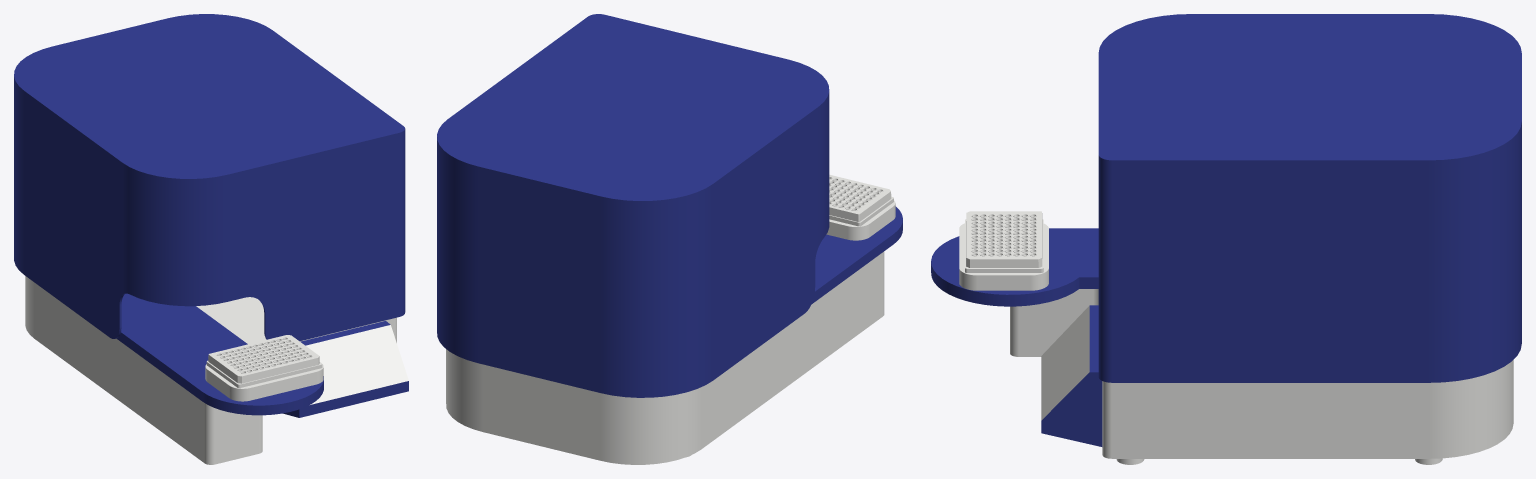
The model's file is Xpeel_v2.glb.
The picture shows the model from 3 angles, left to right: view 1: azimuth 30°, elevation 25°; view 2: azimuth 150°, elevation 25°; view 3: azimuth 270°, elevation 25°; orthographic projection. The views are drawn at different scales.
Parts seen in each view (by area): view 1: XPEEL v006, XPEEL v005, XPEEL v007, Eppendorf LoBind 96 Well PCR Plate Skirted v1, XPEEL v008; view 2: XPEEL v006, XPEEL v005, XPEEL v007, Eppendorf LoBind 96 Well PCR Plate Skirted v1, XPEEL v008; view 3: XPEEL v006, XPEEL v005, XPEEL v007, Eppendorf LoBind 96 Well PCR Plate Skirted v1, XPEEL v008.
Part boxes in pixels (x1,y1,x2,y2): XPEEL v006: (14, 14, 405, 341); XPEEL v005: (25, 276, 408, 464); XPEEL v007: (116, 293, 323, 415); Eppendorf LoBind 96 Well PCR Plate Skirted v1: (206, 335, 322, 387); XPEEL v008: (205, 364, 323, 401); XPEEL v006: (437, 14, 829, 397); XPEEL v005: (446, 251, 884, 464); XPEEL v007: (811, 206, 902, 304); Eppendorf LoBind 96 Well PCR Plate Skirted v1: (829, 174, 893, 226); XPEEL v008: (826, 200, 895, 240); XPEEL v006: (1098, 14, 1521, 382); XPEEL v005: (1010, 289, 1513, 458); XPEEL v007: (931, 228, 1098, 306); Eppendorf LoBind 96 Well PCR Plate Skirted v1: (965, 211, 1043, 272); XPEEL v008: (959, 223, 1048, 290).
Size of the model in its own units: 0.3739 by 0.373 by 0.6377.
